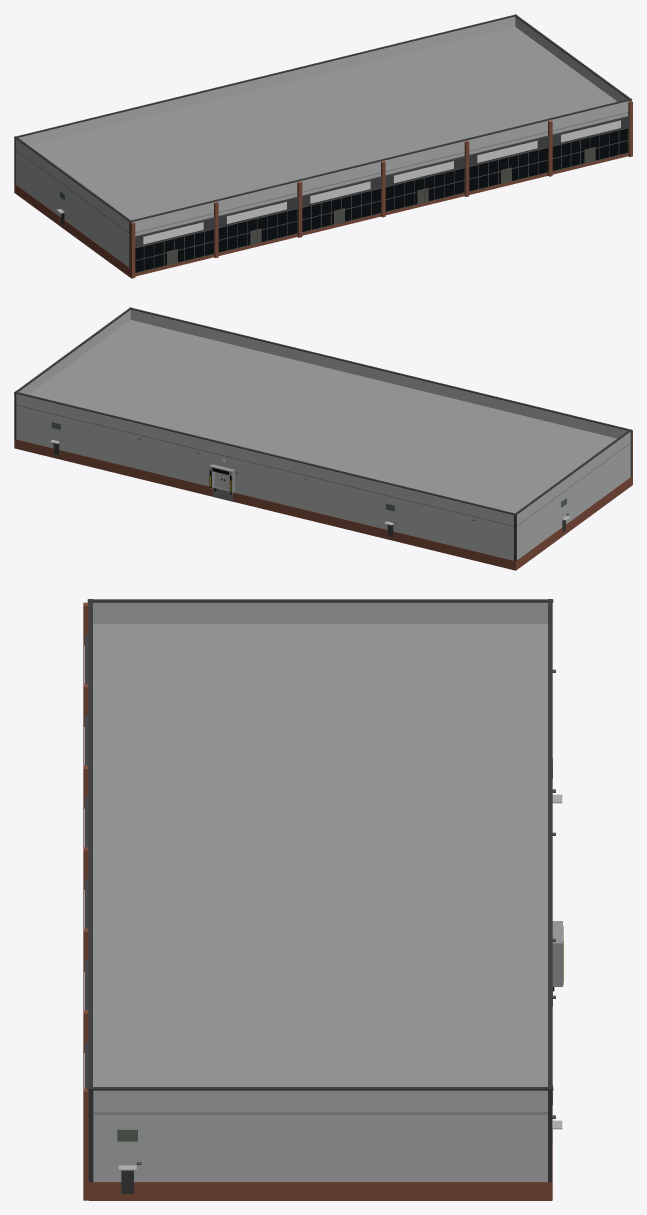
Rendered from context.industrial.retail_row.glb.
The picture shows the model from 3 angles, top to bottom: view 1: azimuth 30°, elevation 25°; view 2: azimuth 150°, elevation 25°; view 3: azimuth 270°, elevation 25°; orthographic projection. The views are drawn at different scales.
Parts seen in each view (by area): view 1: main__clad_999, main__clad_bbb, main__glass_dark, main__brick_854, main__paint_555, main__steel_444, main__clad_444, main__paint_ddd; view 2: main__clad_999, main__clad_bbb, main__brick_854, main__steel_444; view 3: main__clad_999, main__clad_bbb, main__brick_854, main__steel_444, main__clad_444.
Boxes of the visible parts, left/top/right/bottom form: main__clad_999: left=15, top=27, right=628, bottom=233; main__clad_bbb: left=15, top=16, right=629, bottom=266; main__glass_dark: left=135, top=128, right=627, bottom=272; main__brick_854: left=14, top=101, right=632, bottom=278; main__paint_555: left=63, top=127, right=628, bottom=273; main__steel_444: left=14, top=14, right=632, bottom=268; main__clad_444: left=135, top=116, right=629, bottom=247; main__paint_ddd: left=143, top=120, right=620, bottom=244; main__clad_999: left=16, top=320, right=630, bottom=526; main__clad_bbb: left=16, top=309, right=630, bottom=560; main__brick_854: left=14, top=430, right=632, bottom=570; main__steel_444: left=14, top=307, right=632, bottom=561; main__clad_999: left=93, top=624, right=547, bottom=1114; main__clad_bbb: left=93, top=602, right=547, bottom=1181; main__brick_854: left=83, top=602, right=552, bottom=1200; main__steel_444: left=87, top=599, right=553, bottom=1182; main__clad_444: left=84, top=634, right=88, bottom=1088.
Bounding box in the file's own units: 91.6 × 9.62 × 37.36.
